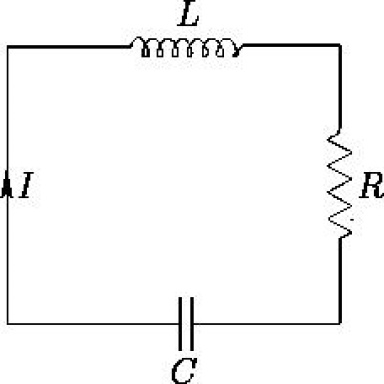Capactitor: (177, 294, 195, 352)
Inductor: (128, 36, 243, 60)
Resistor: (325, 127, 354, 240)
